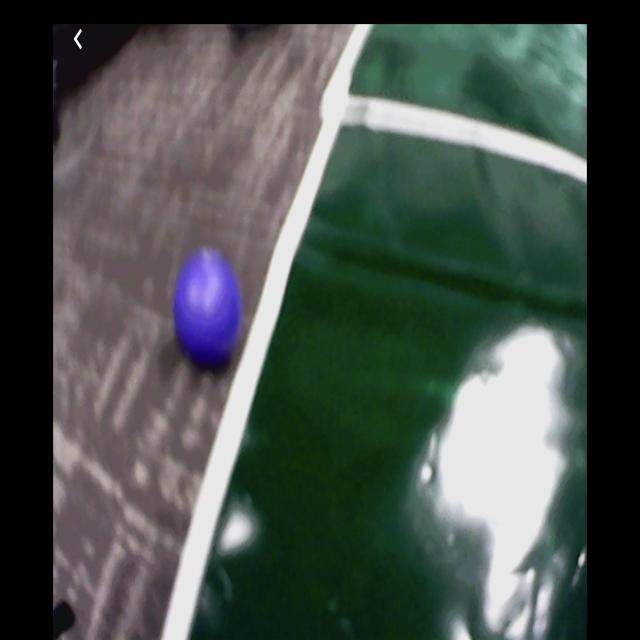ball: (177, 253, 241, 362)
